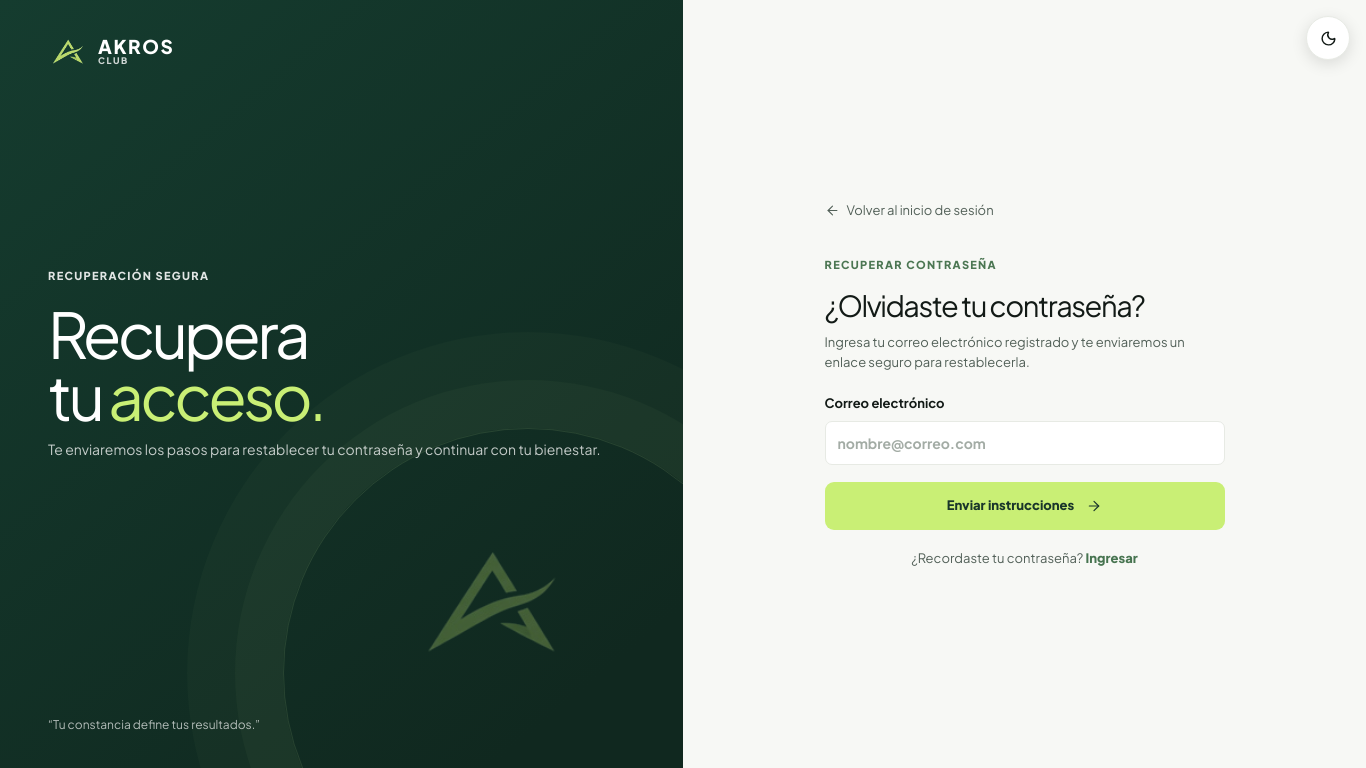
Test: TSK-FE-33: /forgot-password muestra "Revisa tu bandeja de entrada" tras el submit exitoso
Note: Ingresar correo válido y enviar
In the field: x=1024, y=443 [824, 421, 1224, 465], type "socio@sportcomplex.com"
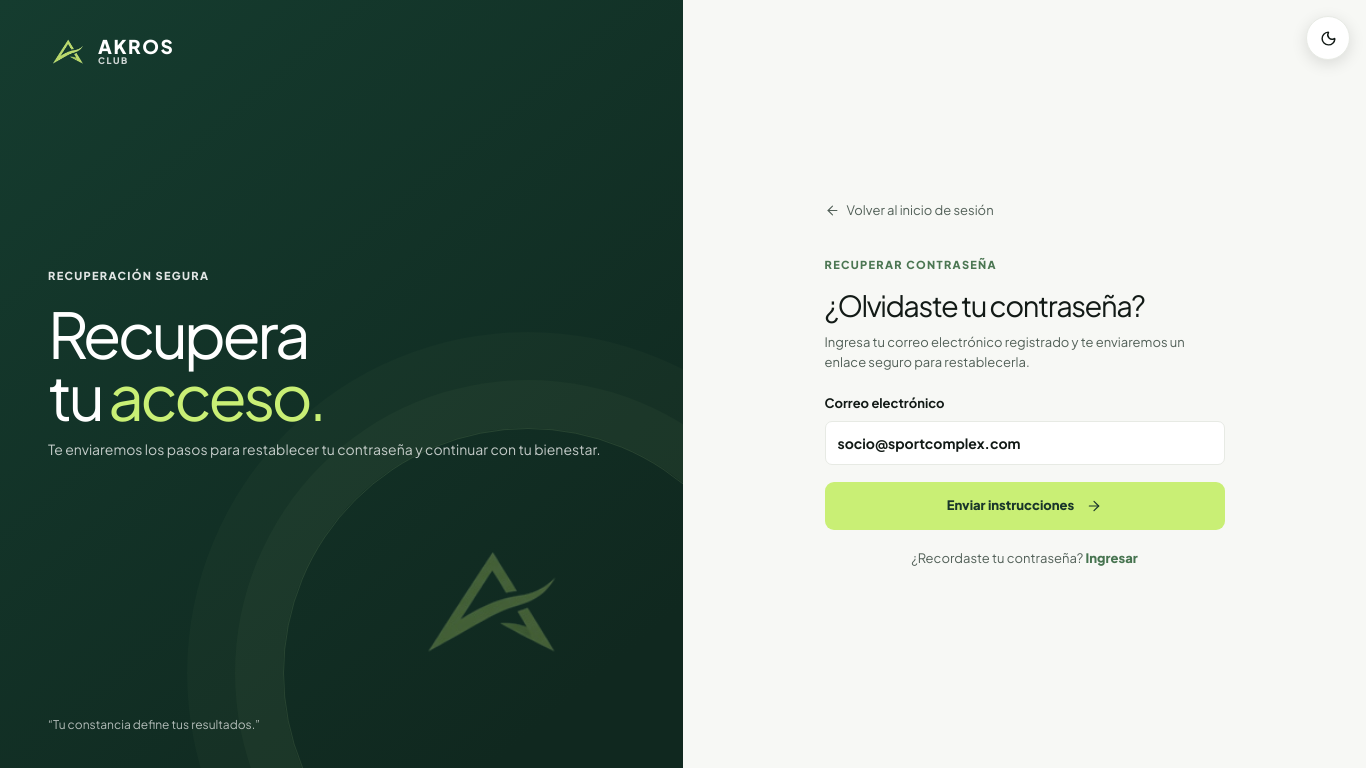
Click the button "Enviar instrucciones": x=1024, y=506 [824, 482, 1224, 530]
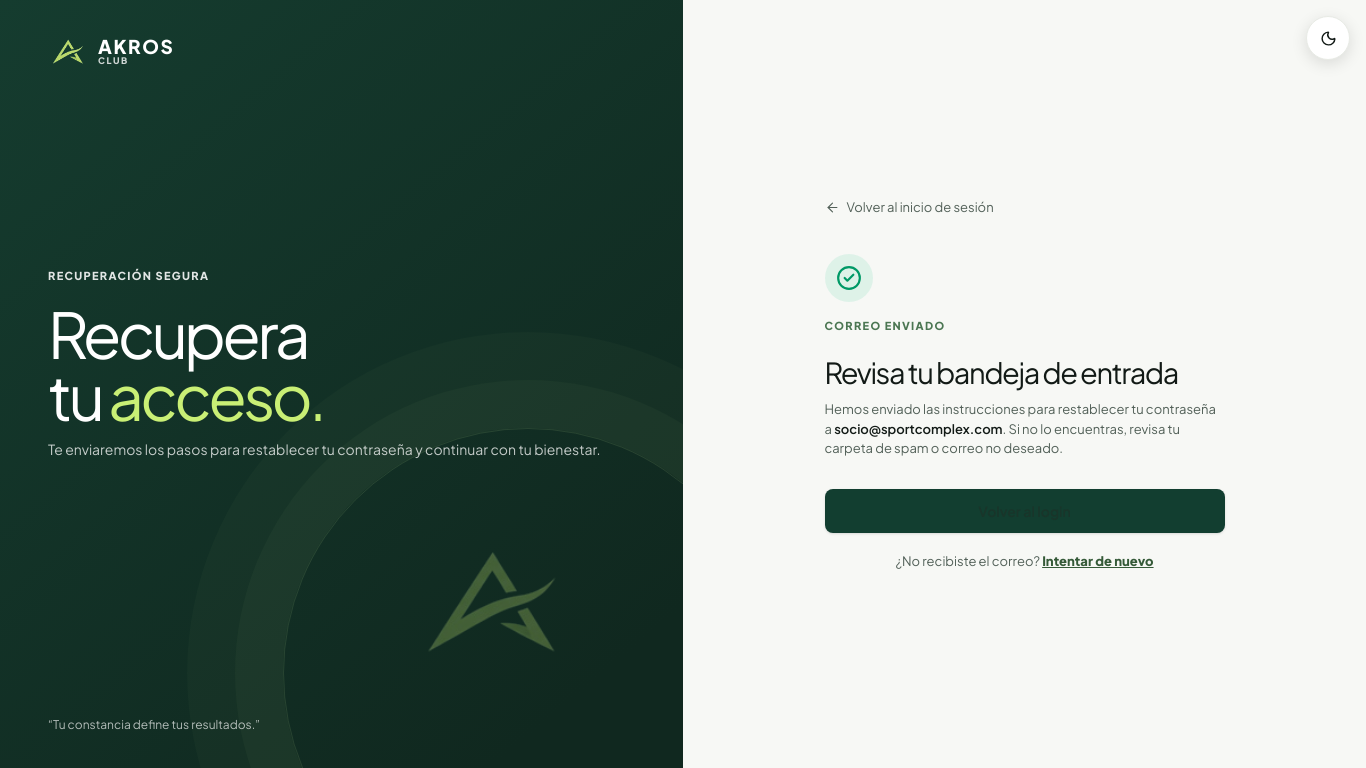
expect the link to "/login" is shown: met, box [824, 198, 994, 217]
expect the heading "Revisa tu bandeja de entrada" is shown: met, box [824, 351, 1224, 394]
expect the text "socio@sportcomplex.com" is shown: met, box [834, 421, 1003, 437]
